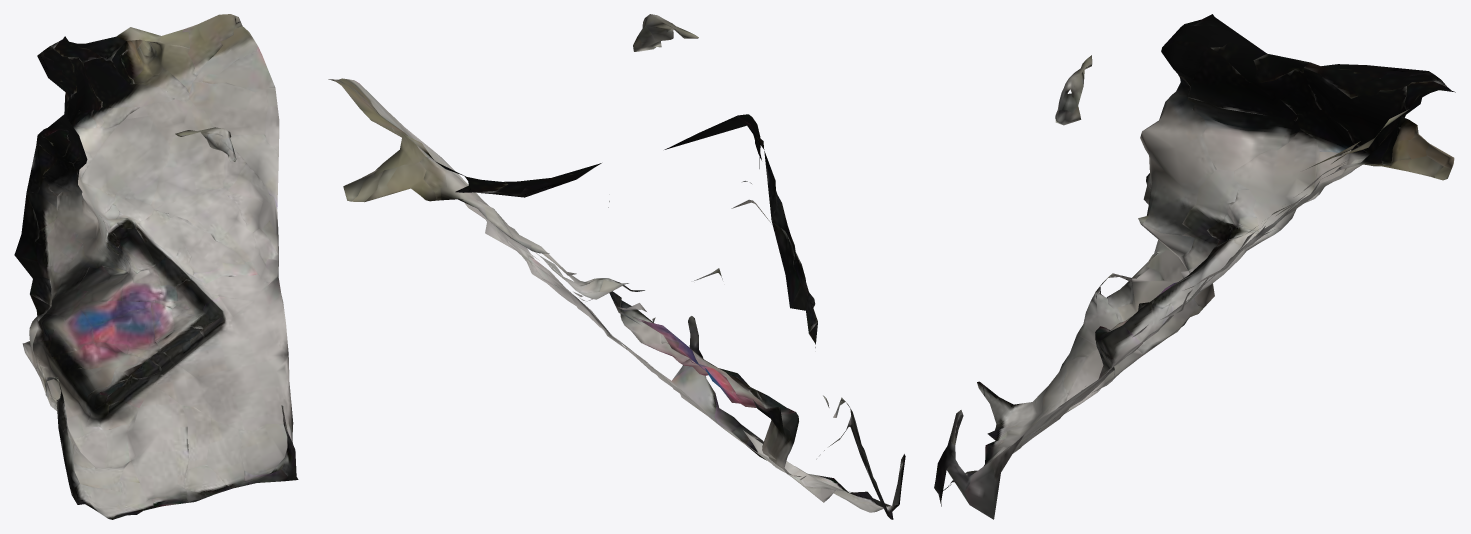
Rendered from hall.glb.
The picture shows the model from 3 angles, left to right: view 1: azimuth 30°, elevation 25°; view 2: azimuth 150°, elevation 25°; view 3: azimuth 270°, elevation 25°; orthographic projection. The views are drawn at different scales.
Bounding box in the file's own units: 0.7274 × 0.8414 × 0.9059.
Materials: 1 (1 with a texture image).
